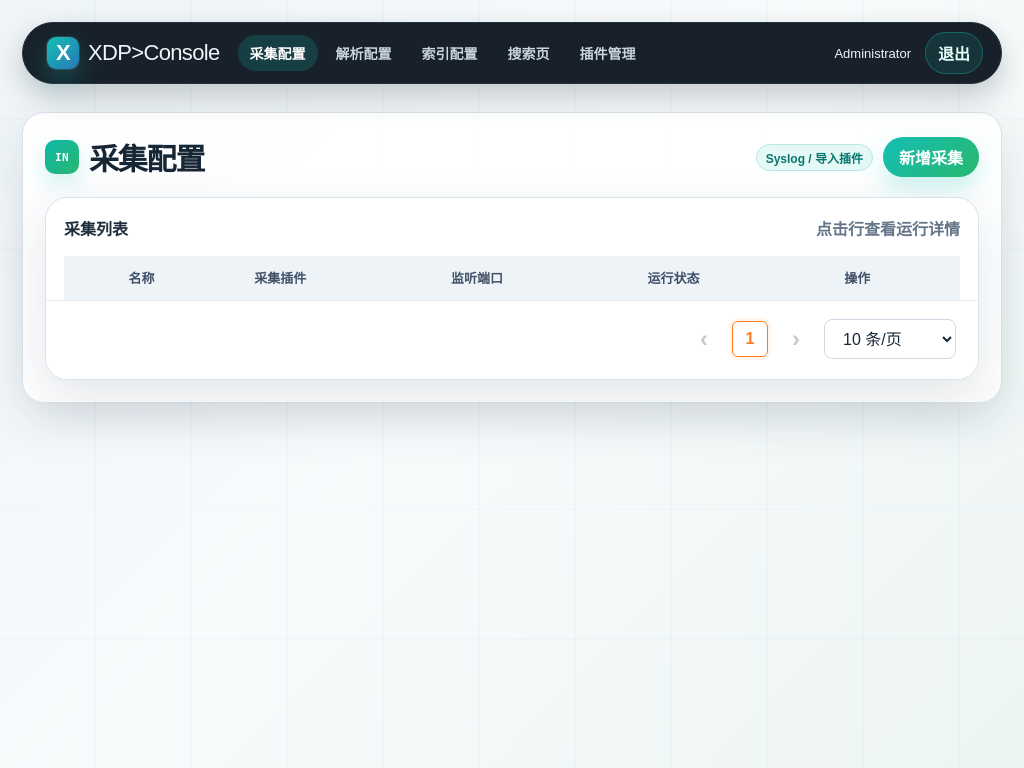
Test: XDP parse config API integration › paginates the parse rules list through API page params
Click the button with test id "nav-parse" at (364, 53), box [324,35,404,71]
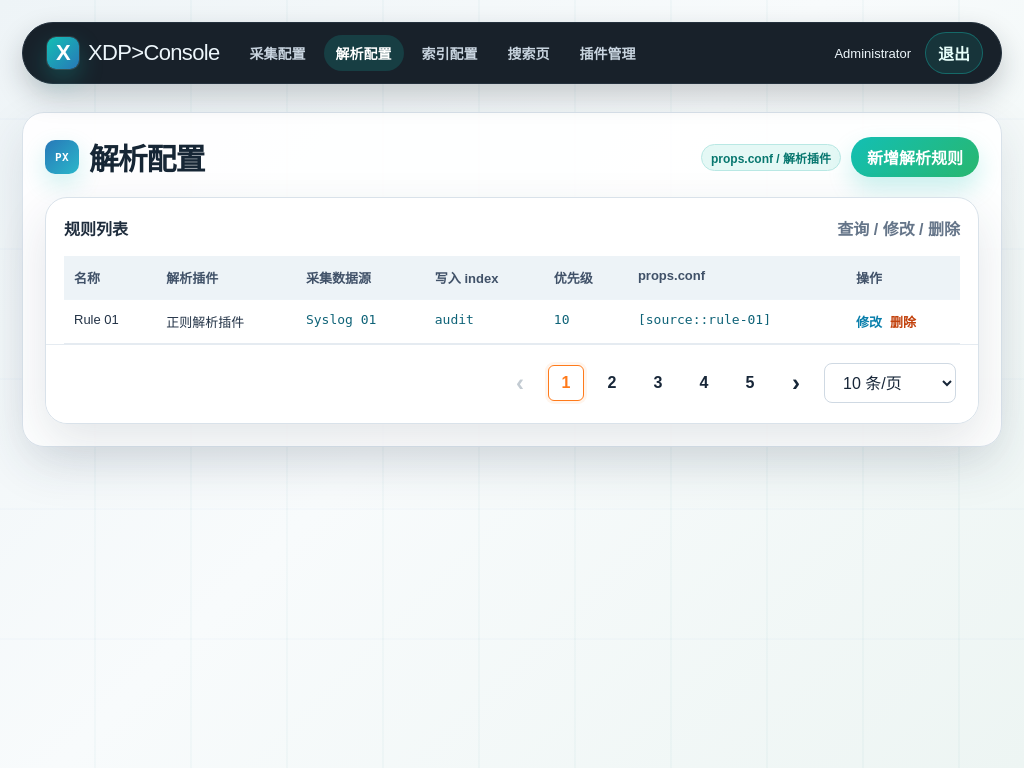
expect the element with test id "parse-pagination" shows "3": met, box [640,365,676,401]
Click the button with test id "parse-next" at (796, 383), box [778,365,814,401]
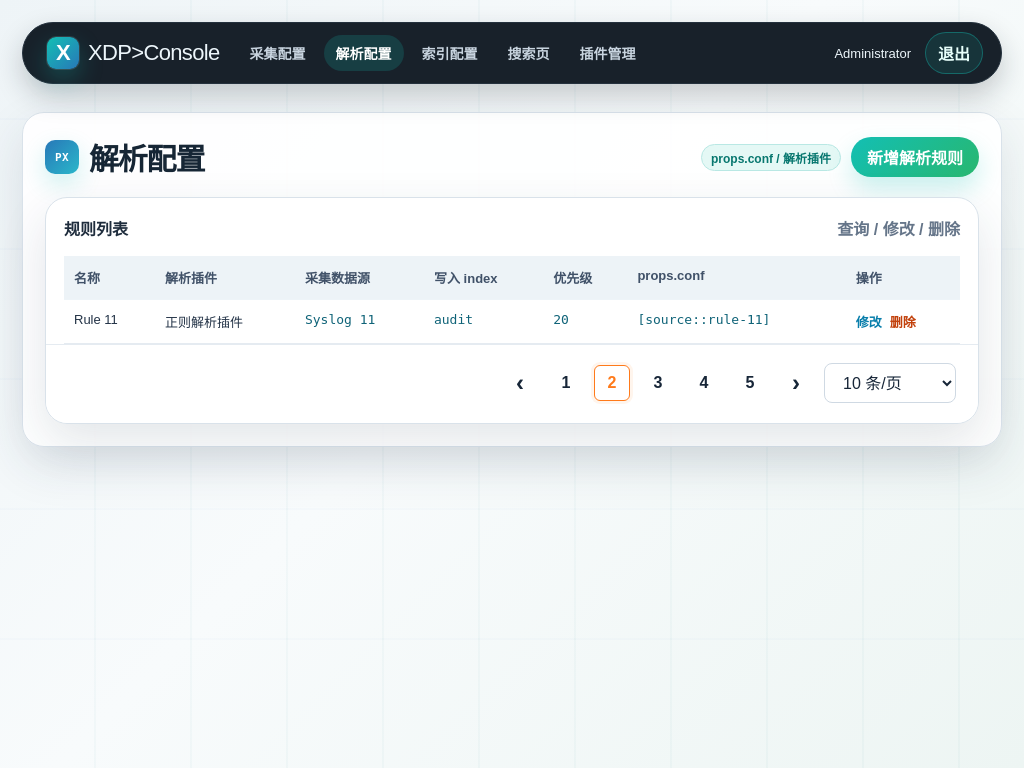
expect the element with test id "parse-page" shows "Rule 11": met, box [74,312,118,327]
